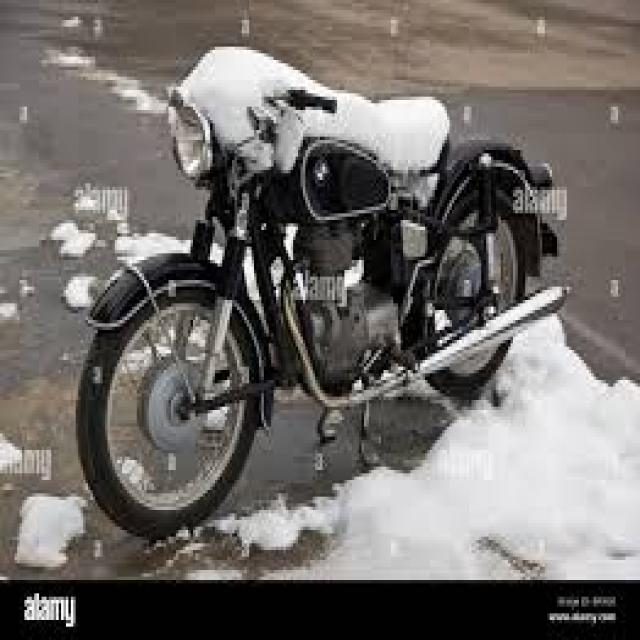bike: (74, 46, 570, 544)
